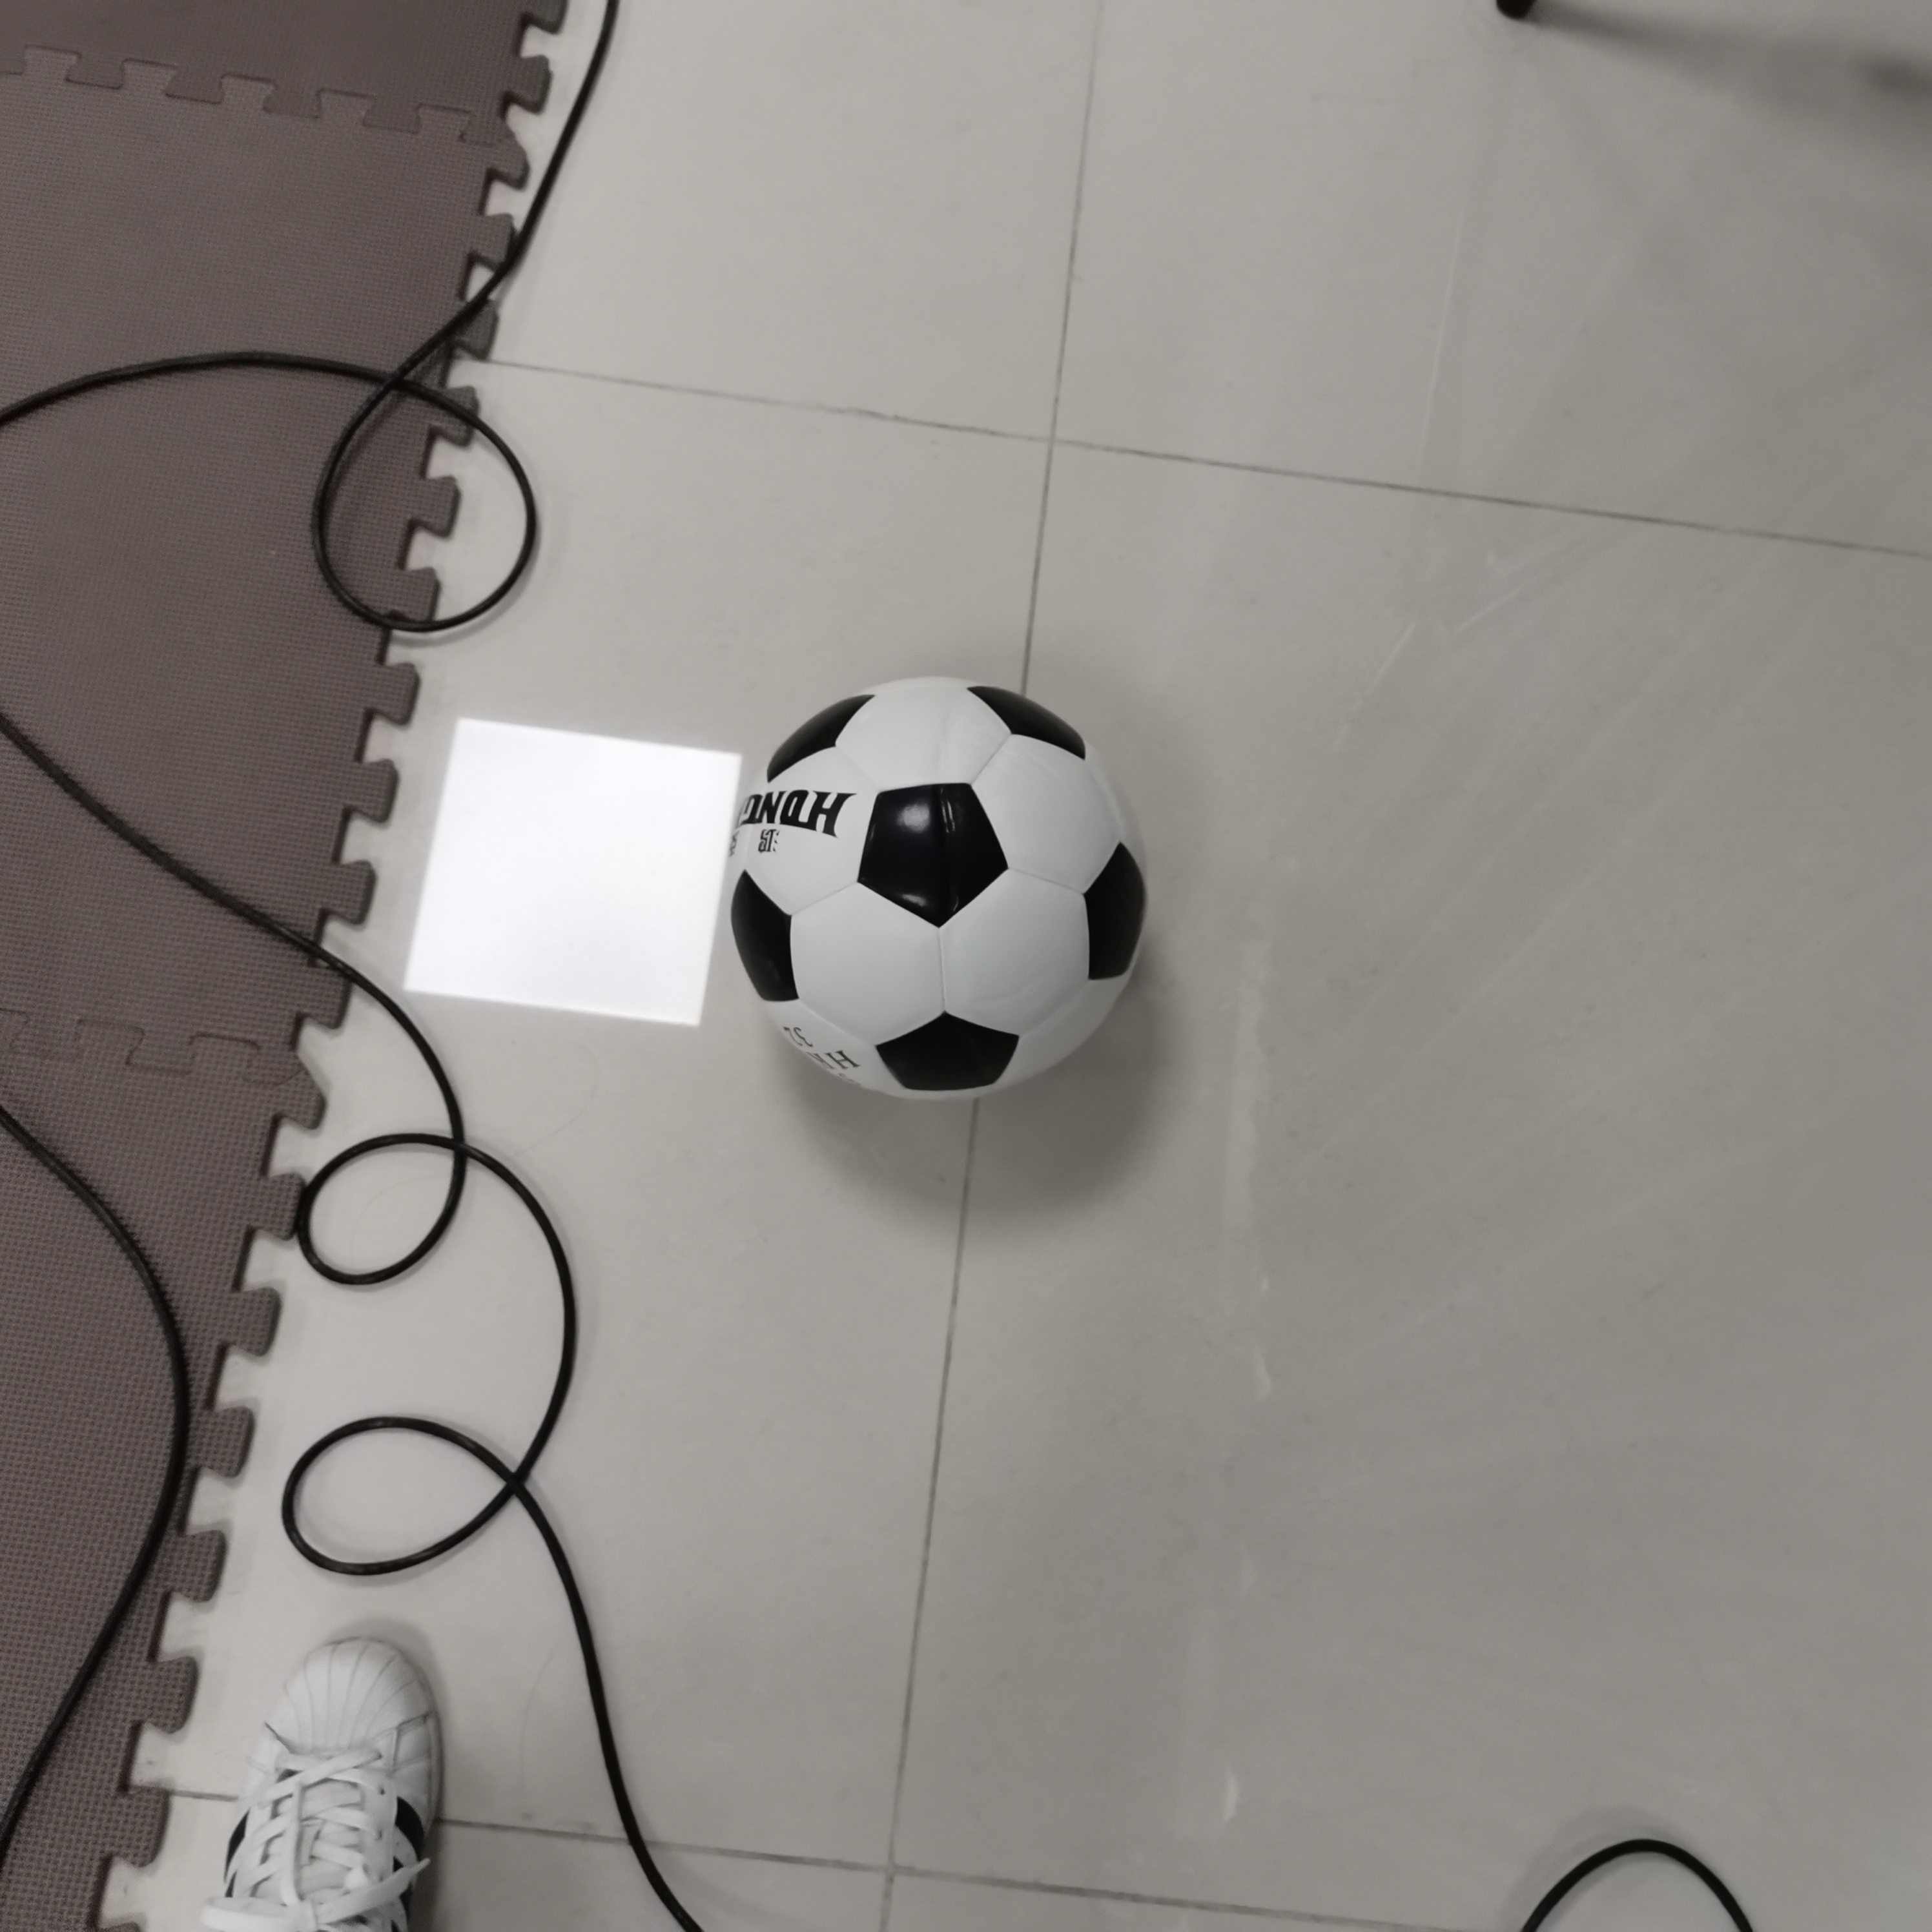football: (724, 679, 1145, 1109)
